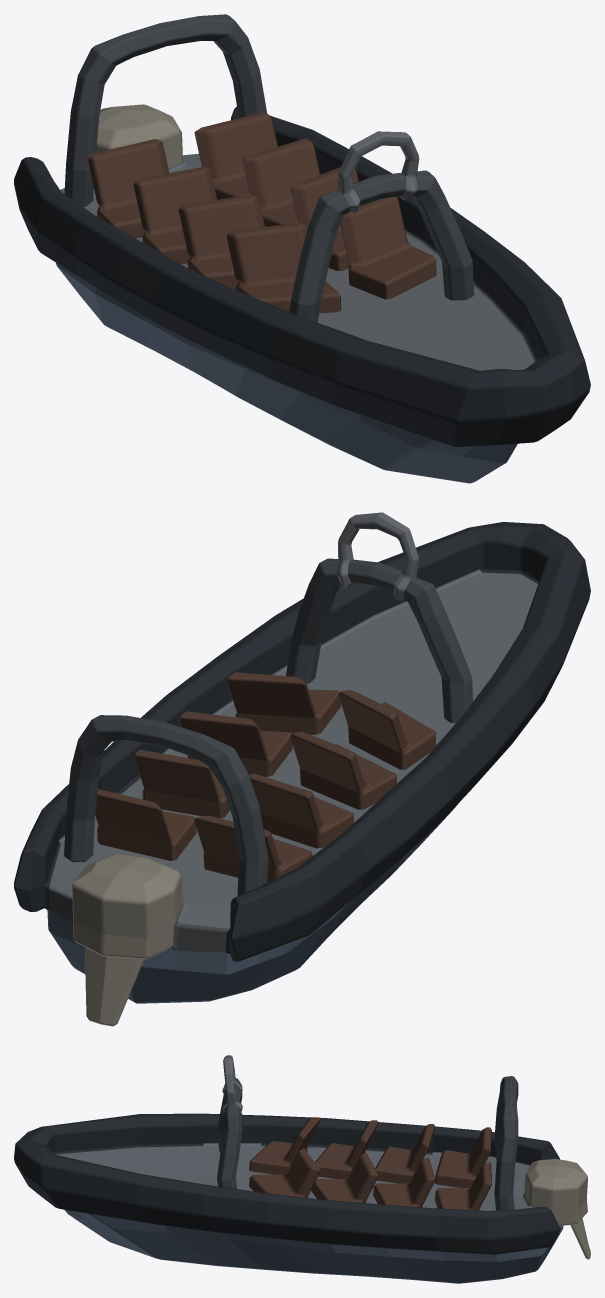
File: MARINE_Boot_klein_03 1.fbx
3 renders of one model, top to bottom at view 1: azimuth 30°, elevation 25°; view 2: azimuth 150°, elevation 25°; view 3: azimuth 270°, elevation 25°, orthographic. The views are drawn at different scales.
Visible parts, largest first — view 1: boar_klein_01, sitjes, balk voor, balk achter; view 2: boar_klein_01, sitjes, balk voor, balk achter; view 3: boar_klein_01, sitjes, balk achter, balk voor.
Part boxes in pixels (x1=…): boar_klein_01: x1=14, y1=104, x2=590, y2=483; sitjes: x1=88, y1=111, x2=436, y2=313; balk voor: x1=289, y1=131, x2=474, y2=322; balk achter: x1=64, y1=14, x2=266, y2=206; boar_klein_01: x1=14, y1=522, x2=590, y2=1026; sitjes: x1=95, y1=672, x2=436, y2=882; balk voor: x1=286, y1=512, x2=472, y2=723; balk achter: x1=64, y1=715, x2=268, y2=896; boar_klein_01: x1=14, y1=1113, x2=590, y2=1283; sitjes: x1=249, y1=1117, x2=491, y2=1210; balk achter: x1=494, y1=1076, x2=518, y2=1210; balk voor: x1=217, y1=1055, x2=242, y2=1188.
Bounding box in the file's own units: 235 × 244 × 602.
